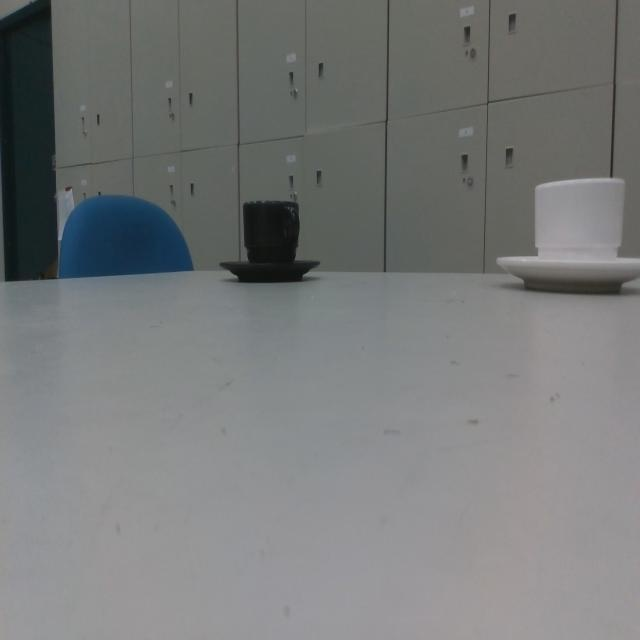black: (217, 198, 321, 284)
white: (495, 175, 640, 294)
